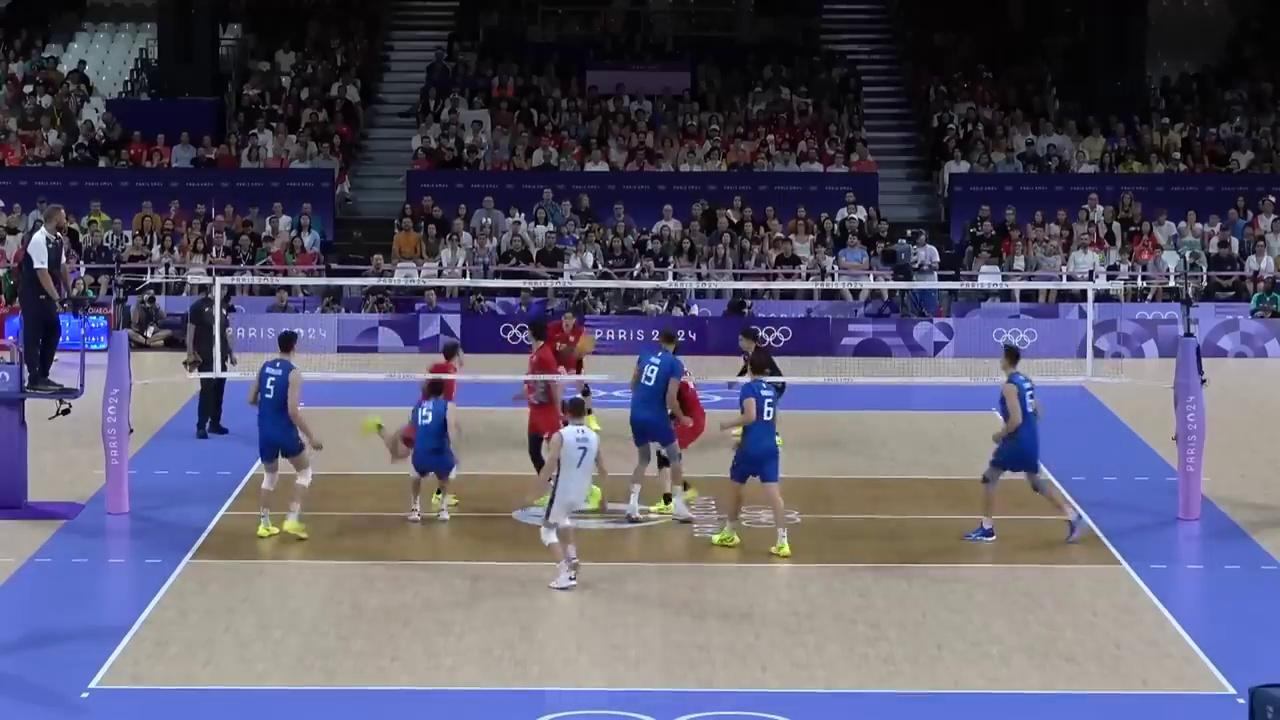ball: (576, 332, 594, 359)
